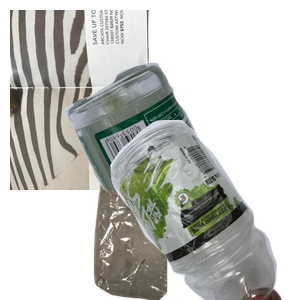glass: (60, 60, 300, 240)
paper: (10, 10, 250, 190)
plastic: (73, 120, 300, 300)
trash: (70, 120, 256, 300)
